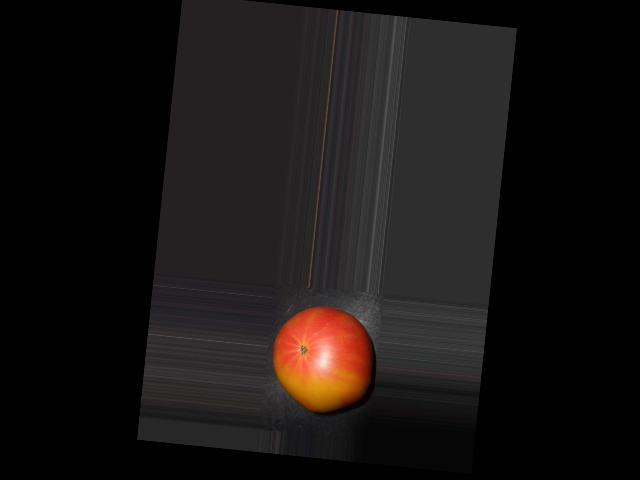tomato: (267, 302, 378, 416)
